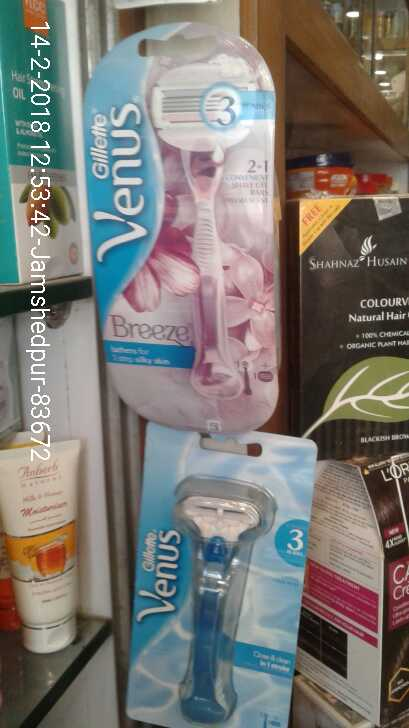venus: (85, 23, 286, 420), (129, 419, 299, 726)
